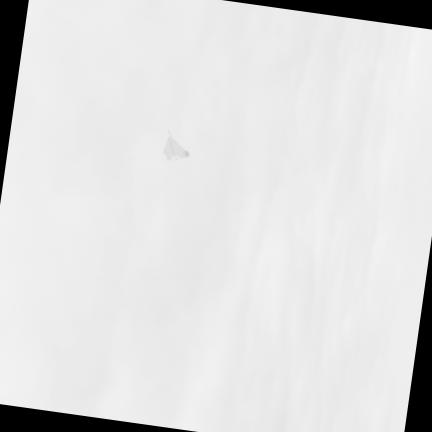Shahed: (162, 129, 189, 159)
